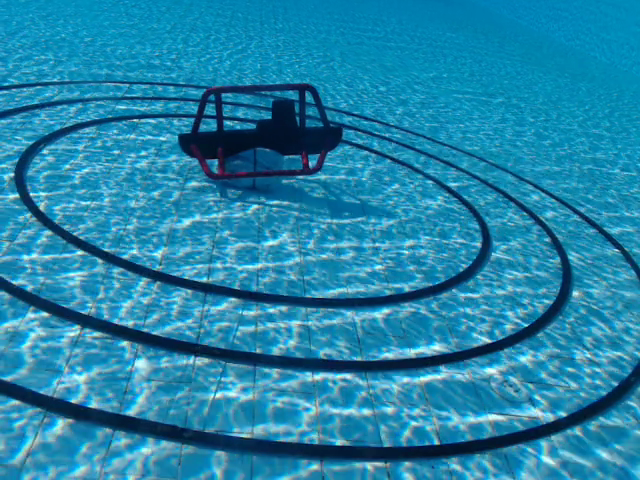submarine: (177, 82, 345, 181)
